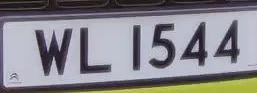1: (123, 18, 151, 77)
4: (178, 14, 213, 74), (212, 11, 245, 73)
5: (144, 16, 181, 76)
L: (74, 22, 118, 79)
W: (34, 23, 73, 79)
